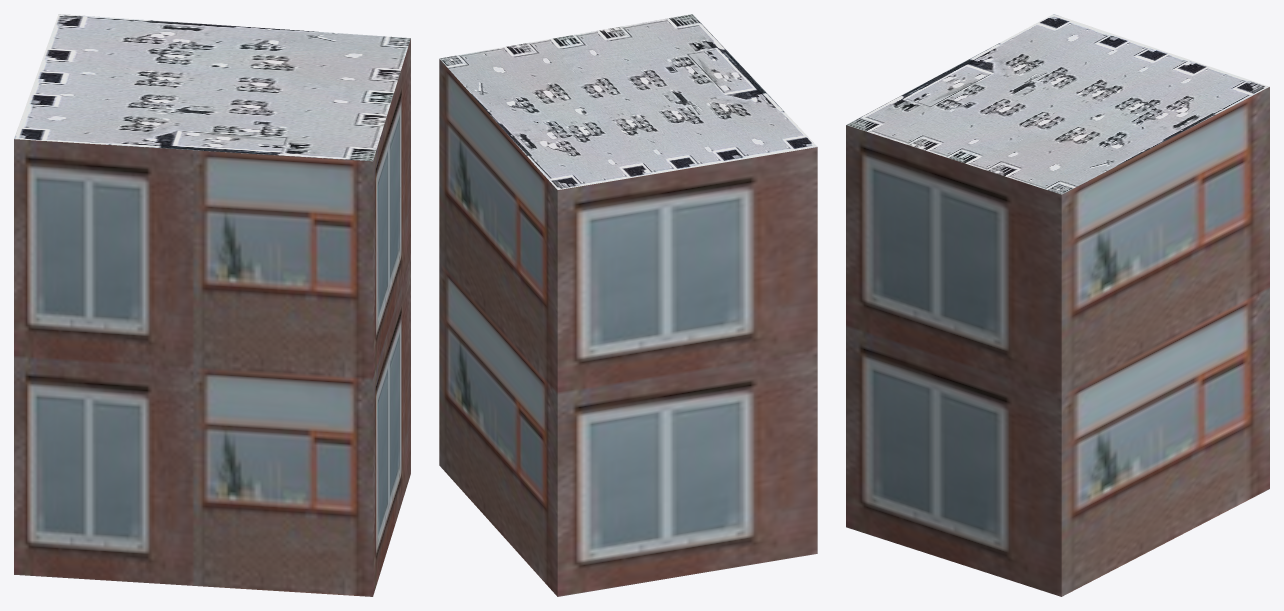
The model's file is ResTex__2093.fbx.
3 renders of one model, left to right at view 1: azimuth 30°, elevation 25°; view 2: azimuth 150°, elevation 25°; view 3: azimuth 270°, elevation 25°, orthographic. The views are drawn at different scales.
Visible parts, largest first — view 1: CityEngineMaterial_19_m, CityEngineMaterial_2_m; view 2: CityEngineMaterial_19_m, CityEngineMaterial_2_m; view 3: CityEngineMaterial_19_m, CityEngineMaterial_2_m.
Part boxes in pixels (x1,y1,x2,y2): CityEngineMaterial_19_m: (14, 39, 410, 596); CityEngineMaterial_2_m: (14, 14, 410, 161); CityEngineMaterial_19_m: (439, 59, 817, 596); CityEngineMaterial_2_m: (439, 14, 817, 189); CityEngineMaterial_19_m: (846, 87, 1269, 596); CityEngineMaterial_2_m: (846, 14, 1269, 194).
Bounding box in the file's own units: 5.78 × 6 × 5.73.
2 materials, 2 textured.
